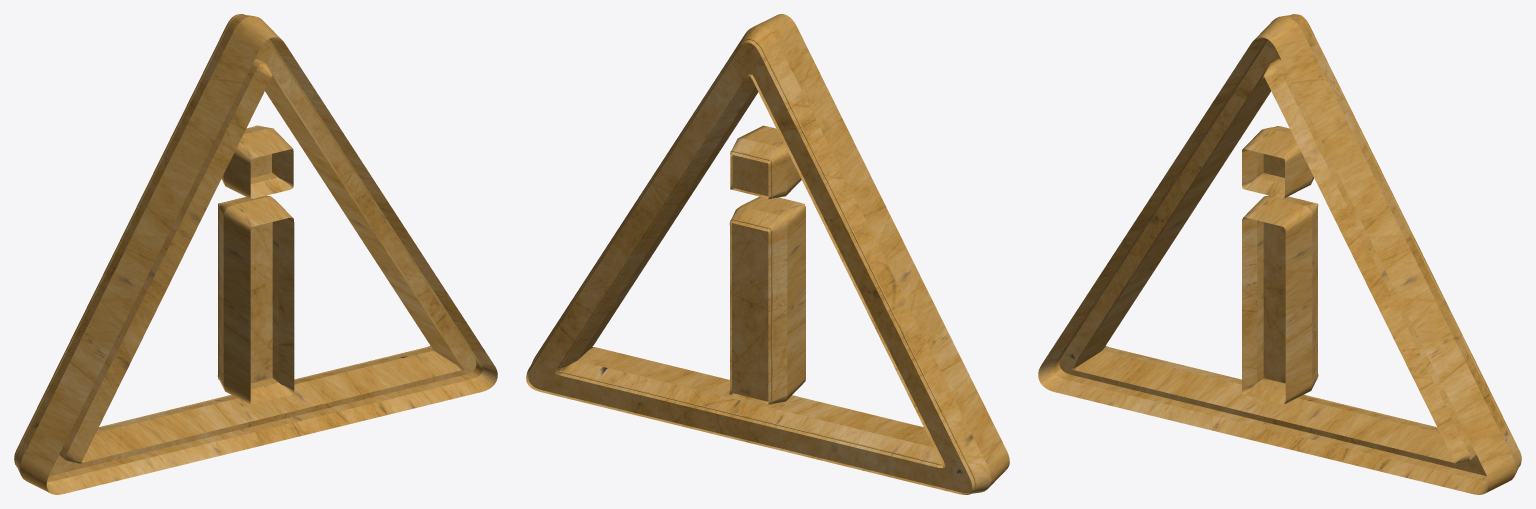
Rendered from caution_sign.fbx.
3 renders of one model, left to right at view 1: azimuth 30°, elevation 25°; view 2: azimuth 150°, elevation 25°; view 3: azimuth 330°, elevation 25°, orthographic.
Visible parts, largest first — view 1: City-Icons.006; view 2: City-Icons.006; view 3: City-Icons.006.
Boxes of the visible parts, left/top/right/bottom form: City-Icons.006: left=14, top=14, right=497, bottom=494; City-Icons.006: left=526, top=14, right=1009, bottom=494; City-Icons.006: left=1038, top=14, right=1521, bottom=494.
Bounding box in the file's own units: 98.17 × 13.01 × 84.6.
